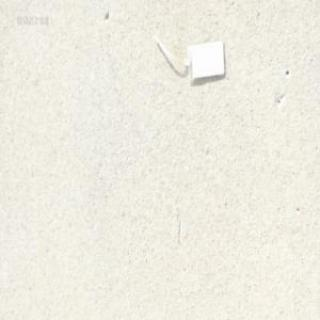LuggageTagtrack_idkeyframe: (149, 34, 227, 84)
